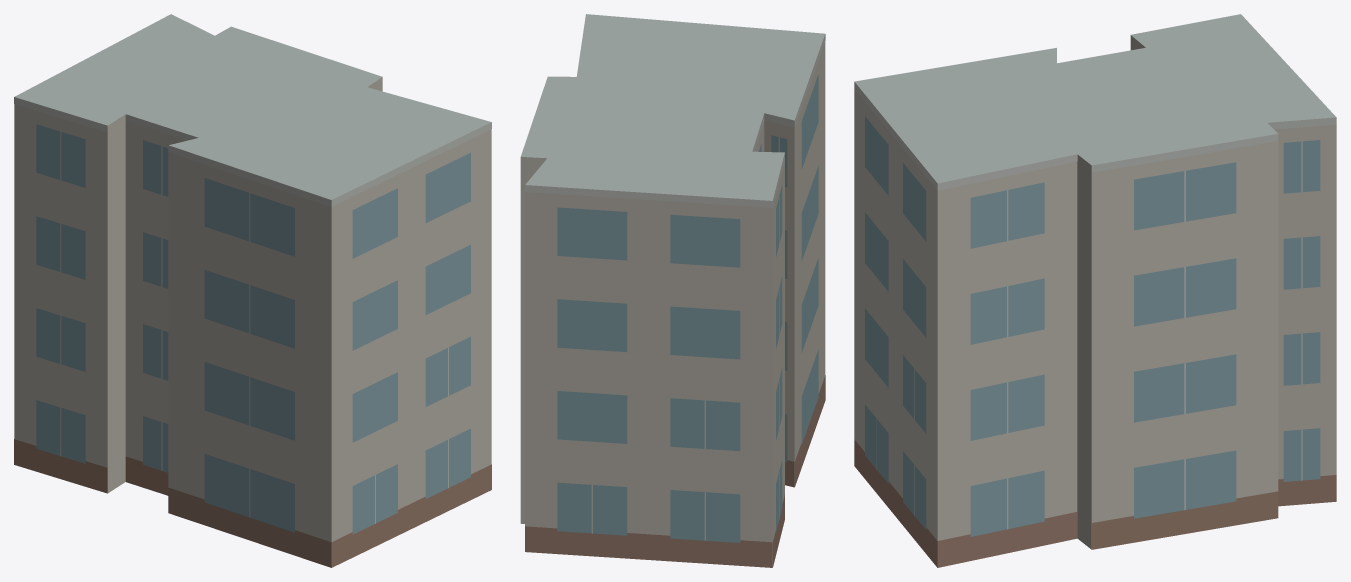
File: survey-upis-32751097.glb
3 renders of one model, left to right at view 1: azimuth 30°, elevation 25°; view 2: azimuth 150°, elevation 25°; view 3: azimuth 270°, elevation 25°, orthographic. The views are drawn at different scales.
Parts seen in each view (by area): view 1: survey-upis-32751097.tmp; view 2: survey-upis-32751097.tmp; view 3: survey-upis-32751097.tmp.
Part boxes in pixels (x1,y1,x2,y2): survey-upis-32751097.tmp: (14, 14, 491, 567); survey-upis-32751097.tmp: (520, 14, 825, 567); survey-upis-32751097.tmp: (854, 14, 1336, 567).
Size of the model in its own units: 12.21 by 12.9 by 14.68.
